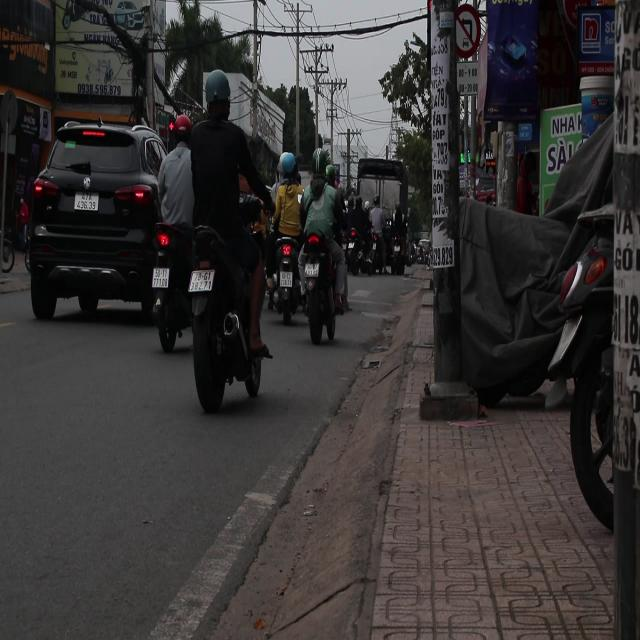car: (26, 124, 176, 322)
motorbike: (189, 214, 263, 412), (149, 216, 195, 358), (295, 232, 344, 346), (265, 232, 306, 323)
